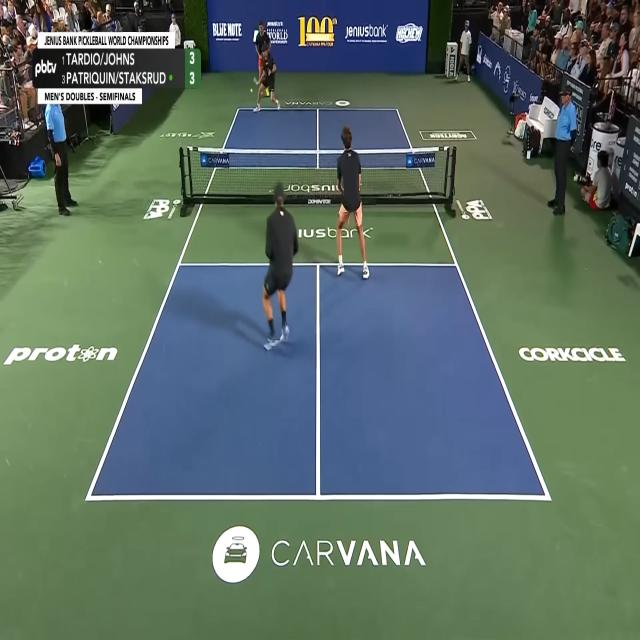ball: (250, 88, 253, 93)
